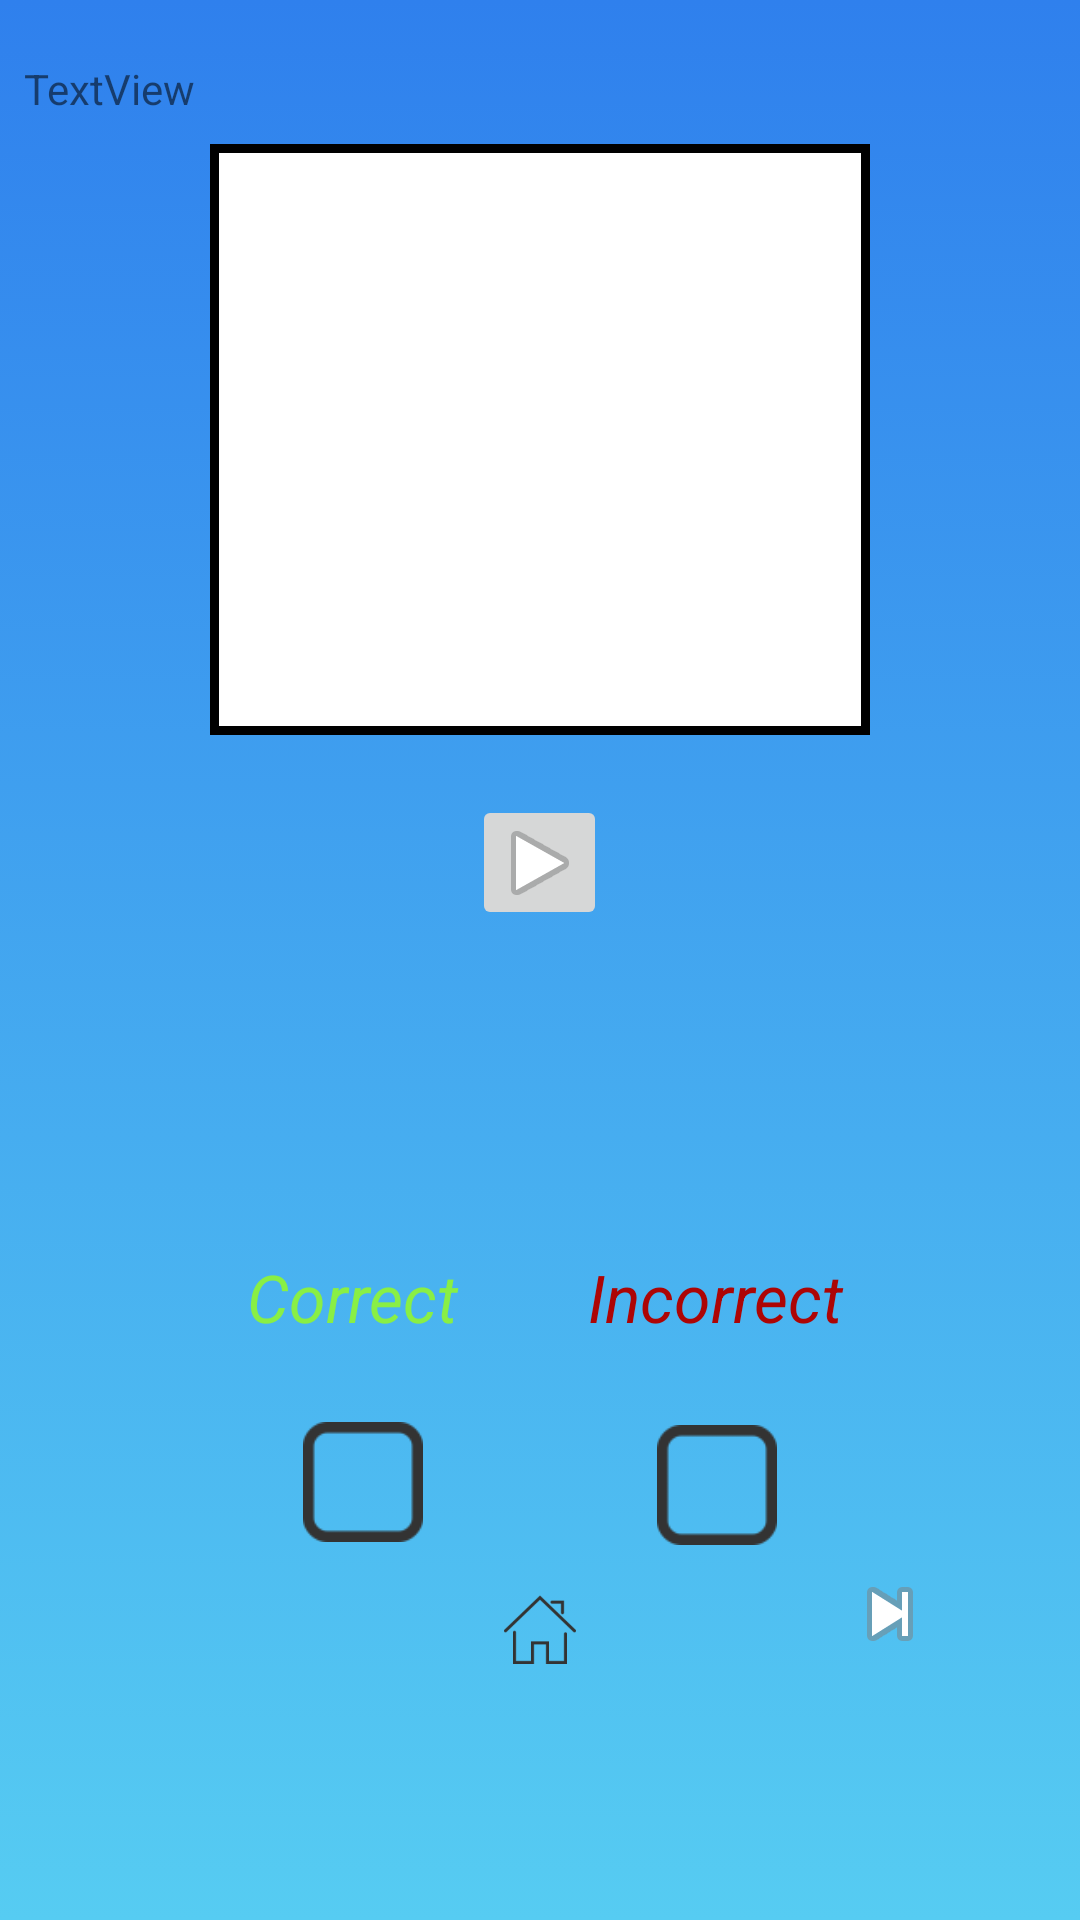

Icon bounding boxes for this 1080*1920 phone screenshot, format BBox(x1, y1, x2, y2):
home: BBox(504, 1595, 576, 1664)
next: BBox(867, 1587, 913, 1641)
play1: BBox(484, 813, 595, 912)
